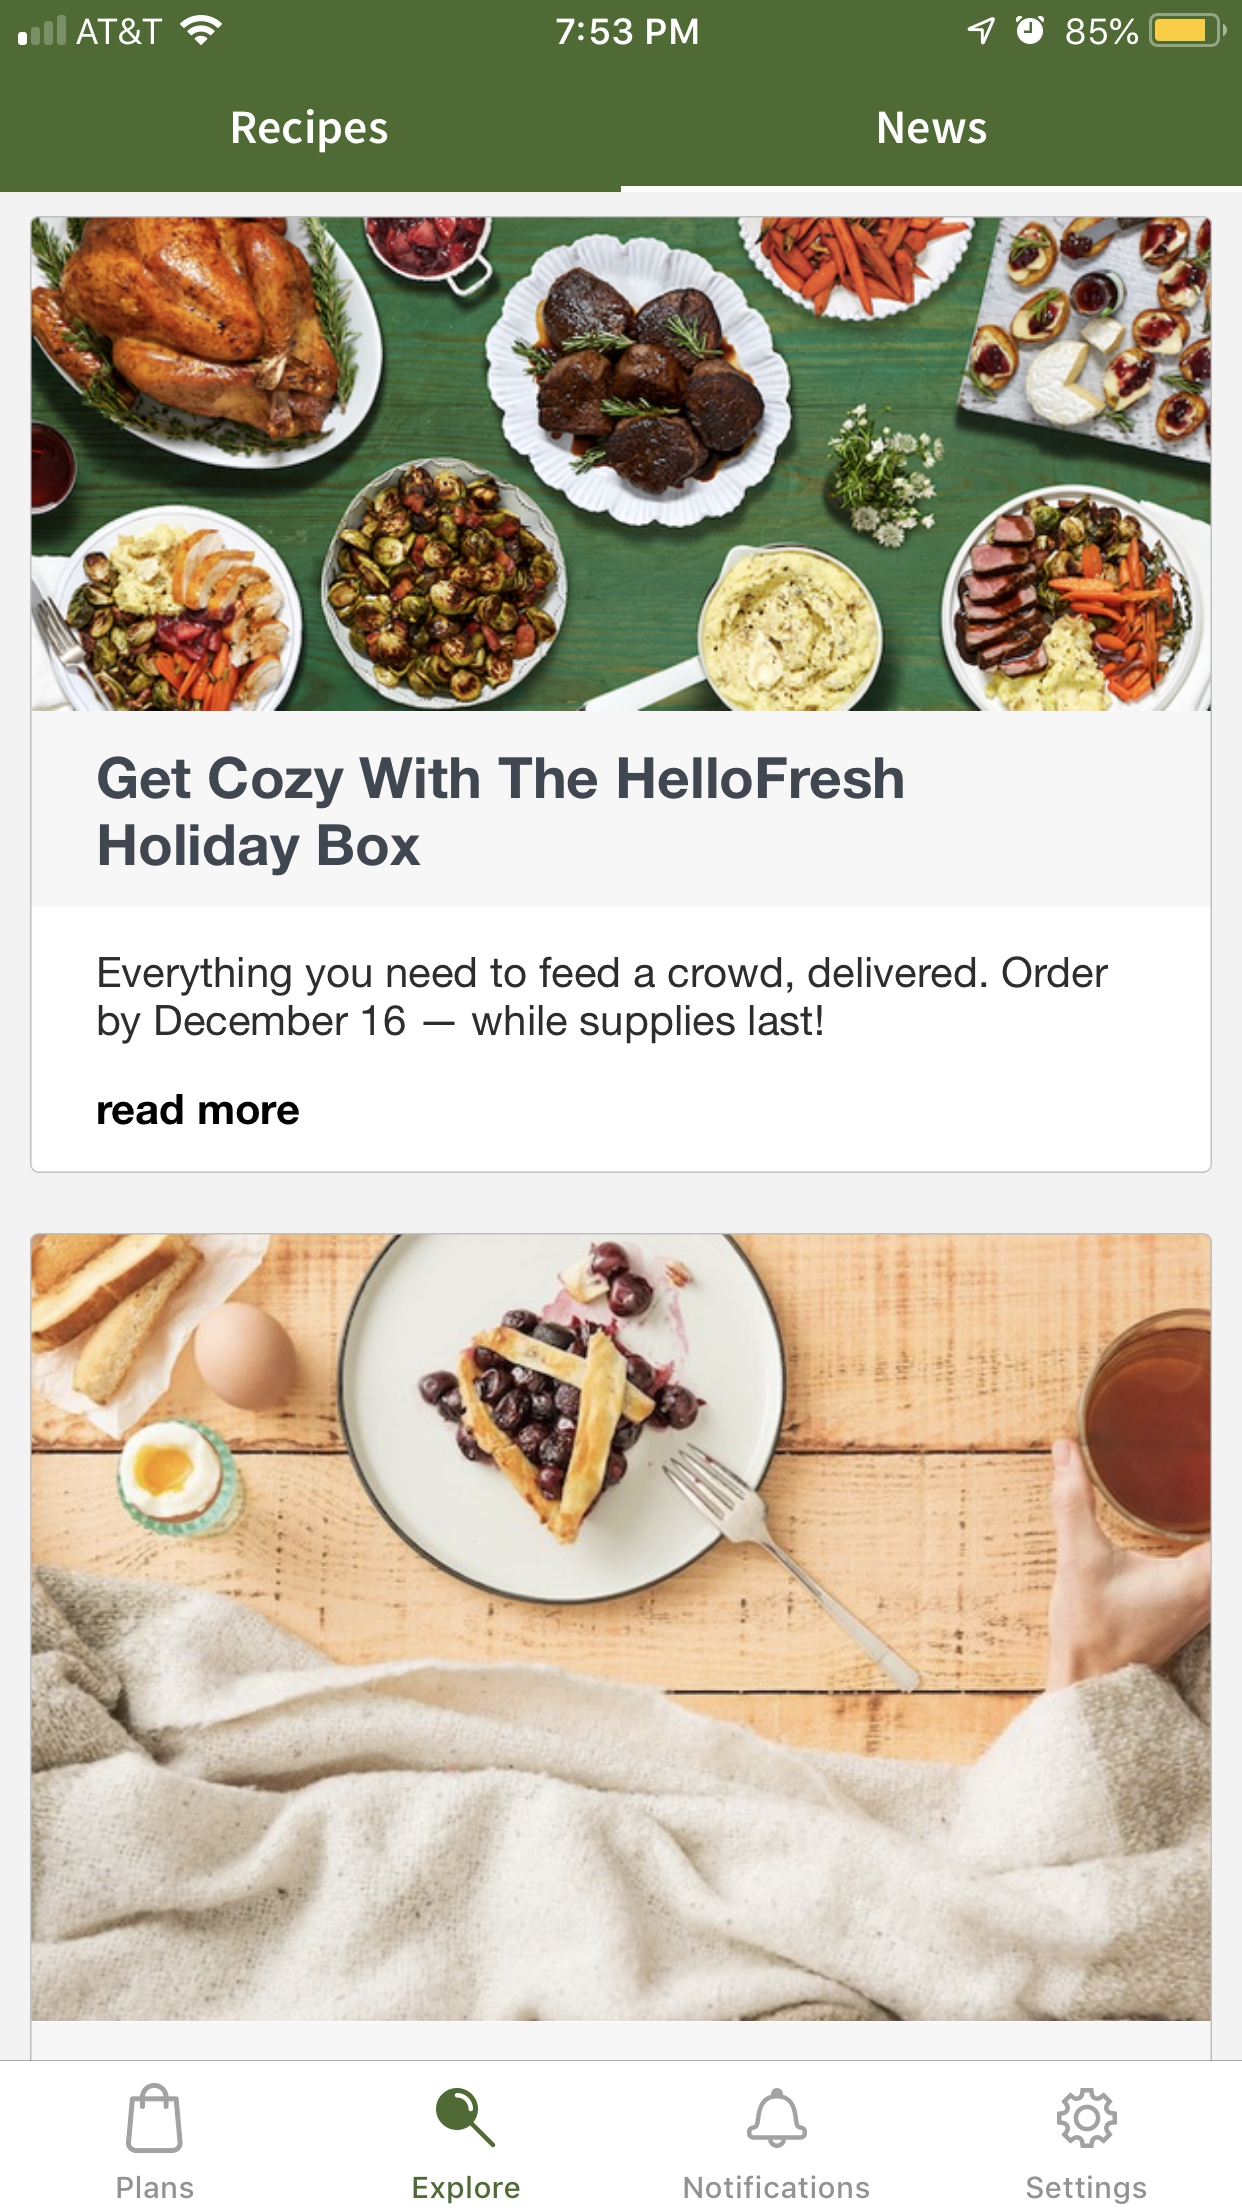Icon: (127, 2082, 185, 2153), (746, 2087, 808, 2149), (435, 2087, 496, 2147), (1057, 2088, 1118, 2149)
Image: (33, 1234, 1212, 2021), (33, 218, 1212, 713)
Text: (99, 757, 904, 877), (99, 955, 1109, 1045), (234, 109, 390, 155), (99, 1093, 300, 1127), (685, 2175, 867, 2197), (880, 111, 989, 146), (1027, 2175, 1146, 2205), (412, 2175, 522, 2203), (118, 2175, 196, 2199)
UpperTaskBar: (2, 2, 1242, 49)
